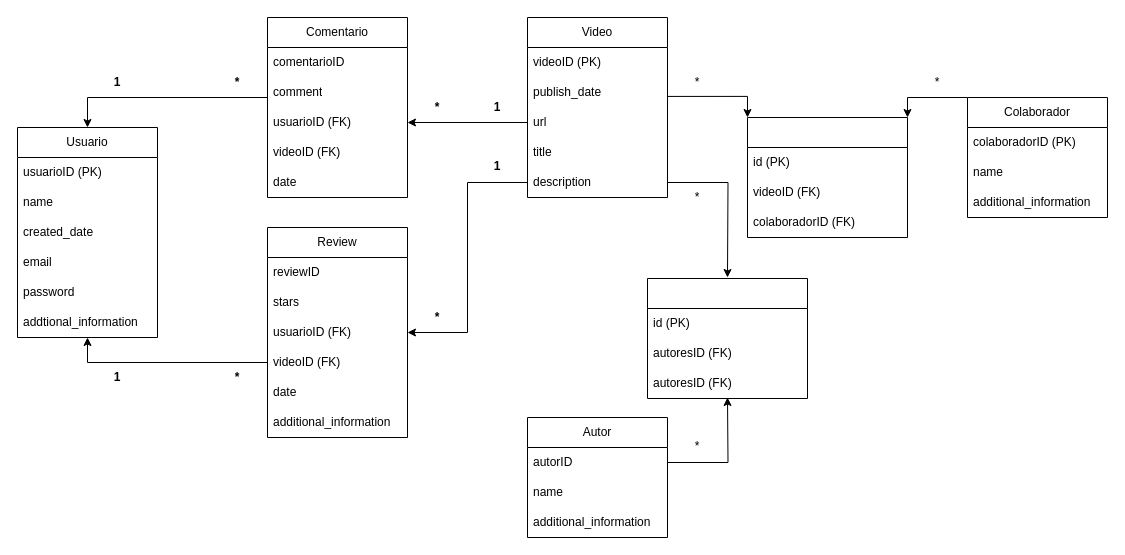
Some shapes in this 1125 by 555 pixel diagram are drawn without their labels. Each missing label, with the box of its shape:
Video_Autor: (646, 278, 808, 398)
Video_Colaborador: (746, 116, 908, 238)
